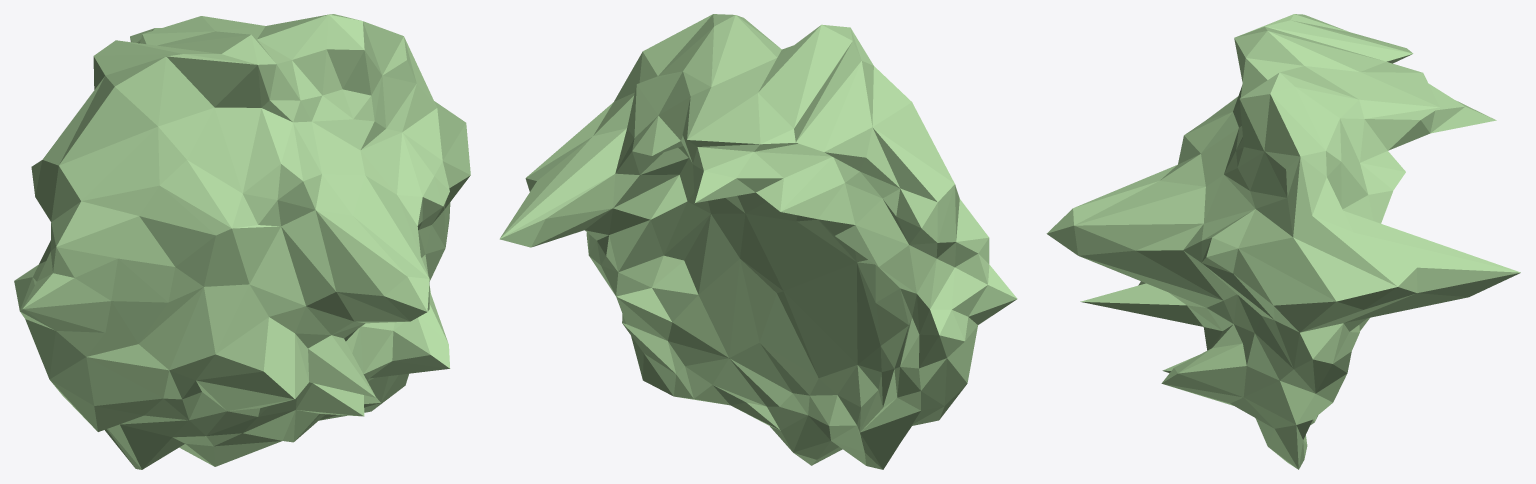
Rendered from land.fbx.
The picture shows the model from 3 angles, left to right: view 1: azimuth 30°, elevation 25°; view 2: azimuth 150°, elevation 25°; view 3: azimuth 270°, elevation 25°; orthographic projection. The views are drawn at different scales.
Visible parts, largest first — view 1: land; view 2: land; view 3: land.
Part boxes in pixels (<box>): land: <box>14,14,470,469</box>; land: <box>499,14,1017,469</box>; land: <box>1046,14,1520,469</box>.
Size of the model in its own units: 1514 by 1370 by 1471.
